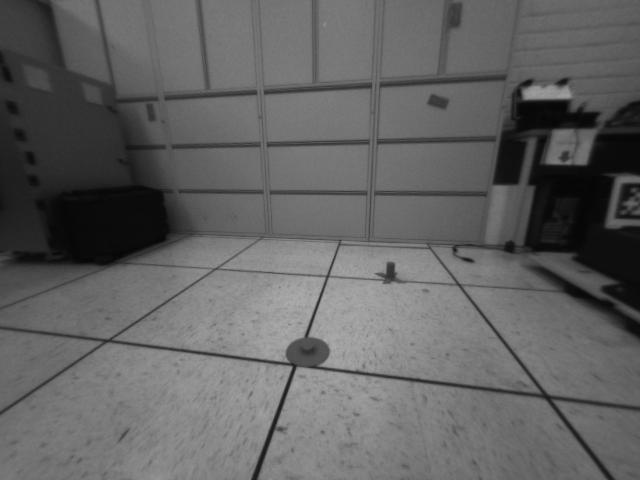X: (373, 261, 402, 285)
